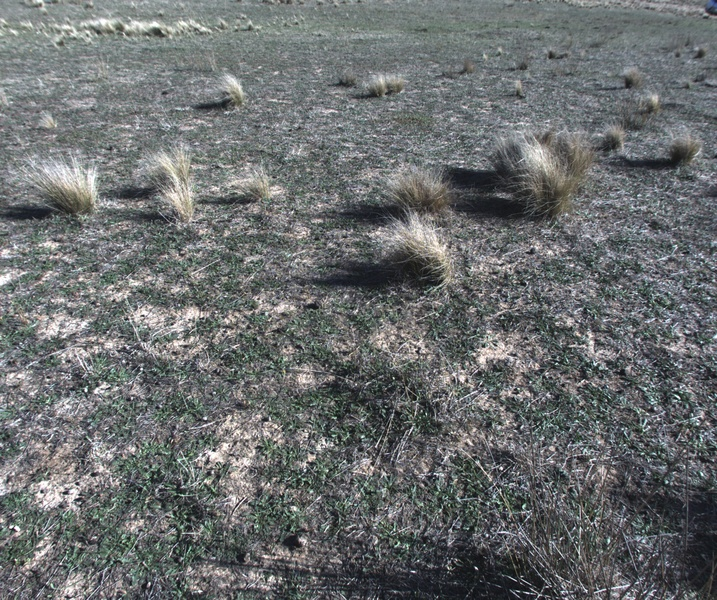st: (503, 132, 583, 225), (18, 158, 102, 221), (394, 221, 453, 291), (375, 160, 442, 217), (211, 169, 279, 204), (139, 147, 188, 194), (152, 183, 198, 230), (213, 66, 241, 117), (666, 130, 697, 164), (605, 125, 627, 157), (368, 73, 398, 96), (642, 85, 662, 114), (621, 64, 641, 86), (510, 75, 526, 96)
